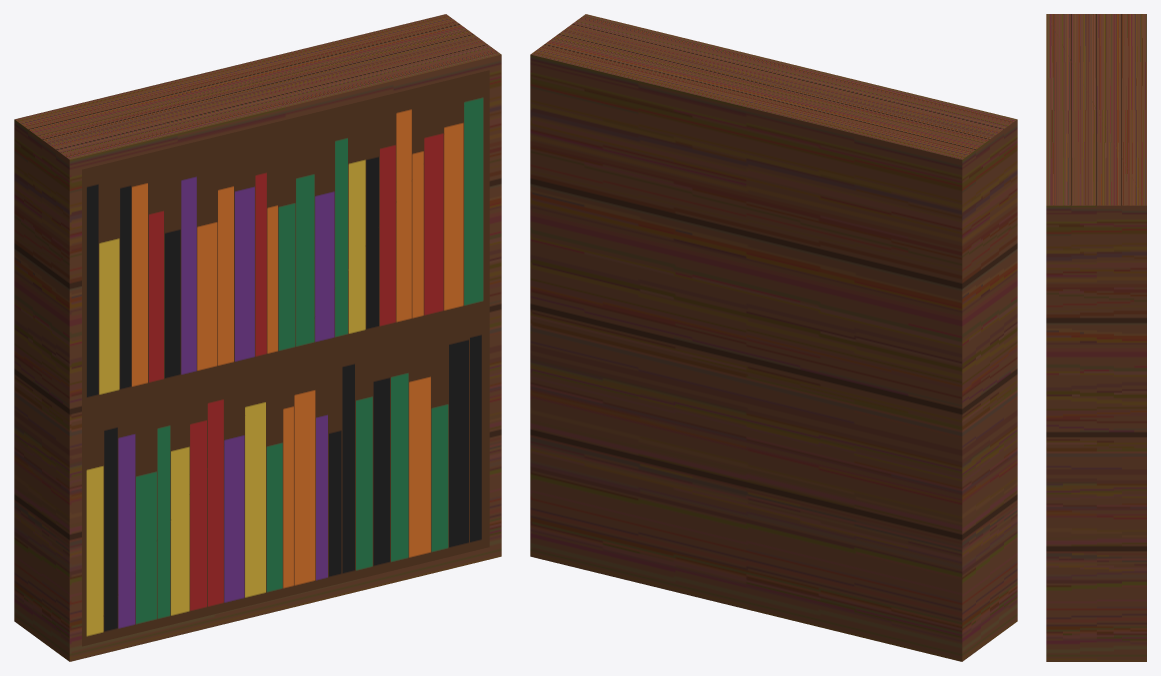
The model's file is bookshelf.glb.
3 views of the same model, side by side, from view 1: azimuth 30°, elevation 25°; view 2: azimuth 150°, elevation 25°; view 3: azimuth 270°, elevation 25° (orthographic). The views are drawn at different scales.
Visible parts, largest first — view 1: bookshelf; view 2: bookshelf; view 3: bookshelf.
Part boxes in pixels (x1,y1,x2,y2): bookshelf: [14, 14, 501, 661]; bookshelf: [530, 14, 1017, 661]; bookshelf: [1046, 14, 1146, 661].
Bounding box in the file's own units: 1.8 × 2 × 0.401.
Materials: 2 (2 with a texture image).
